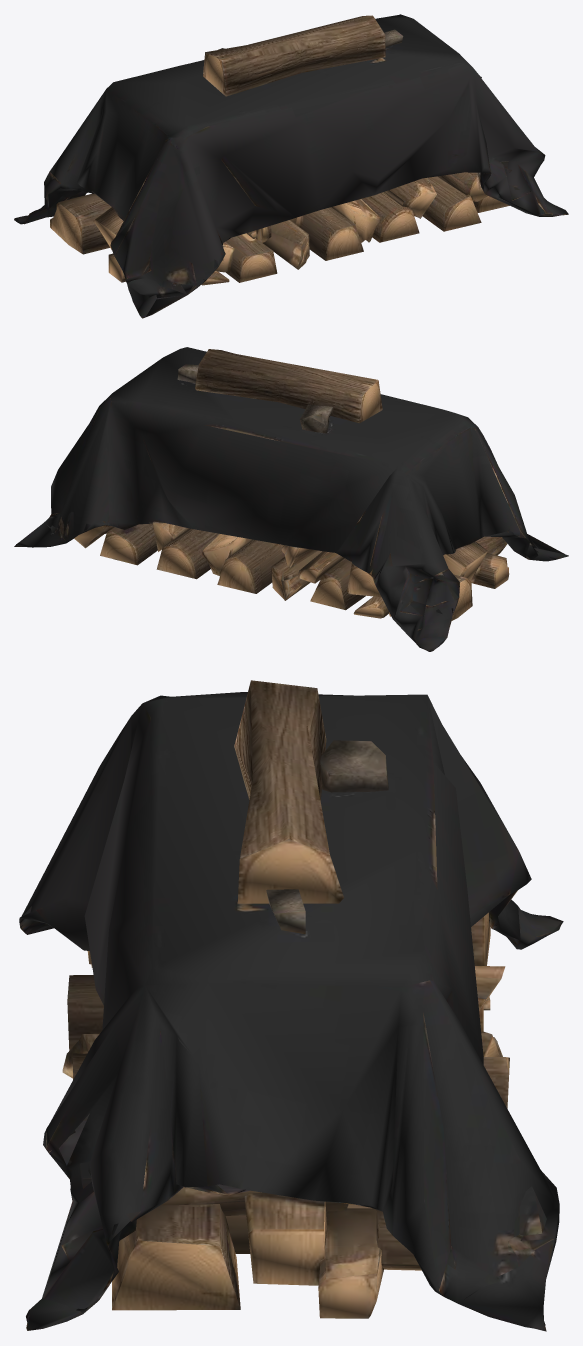
File: tarp_woodpile.glb
3 views of the same model, one above another, from view 1: azimuth 30°, elevation 25°; view 2: azimuth 150°, elevation 25°; view 3: azimuth 270°, elevation 25° (orthographic). The views are drawn at different scales.
Size of the model in its own units: 0.9477 by 0.3911 by 0.5244.
Materials: 1 (1 with a texture image).
